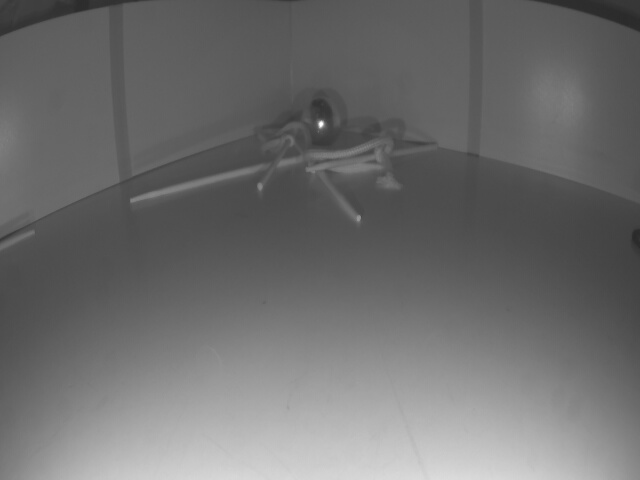Live: (300, 93, 338, 146)
